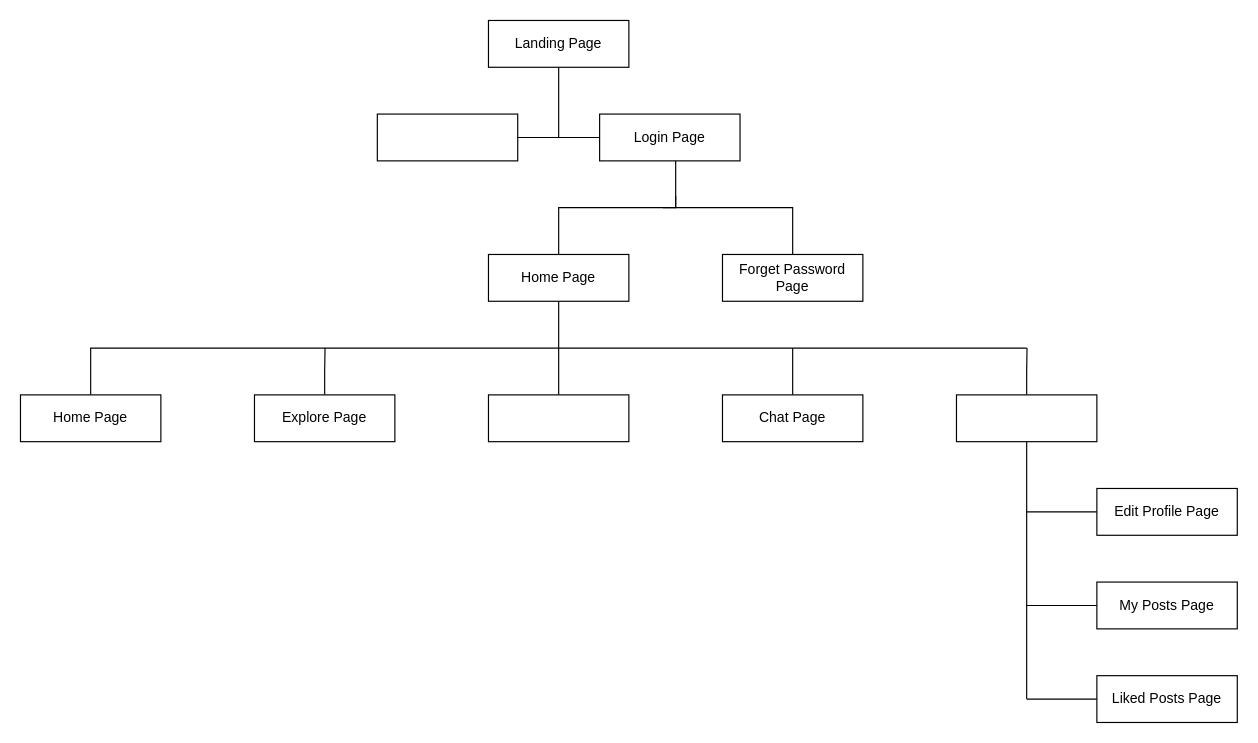
This 1258x743 diagram has some shape labels left out. The centre of each missing label's shape, as x and y in pixels:
Followed Users Page: (558,418)
Profile Page: (1026,418)
Registration Page: (447,137)
